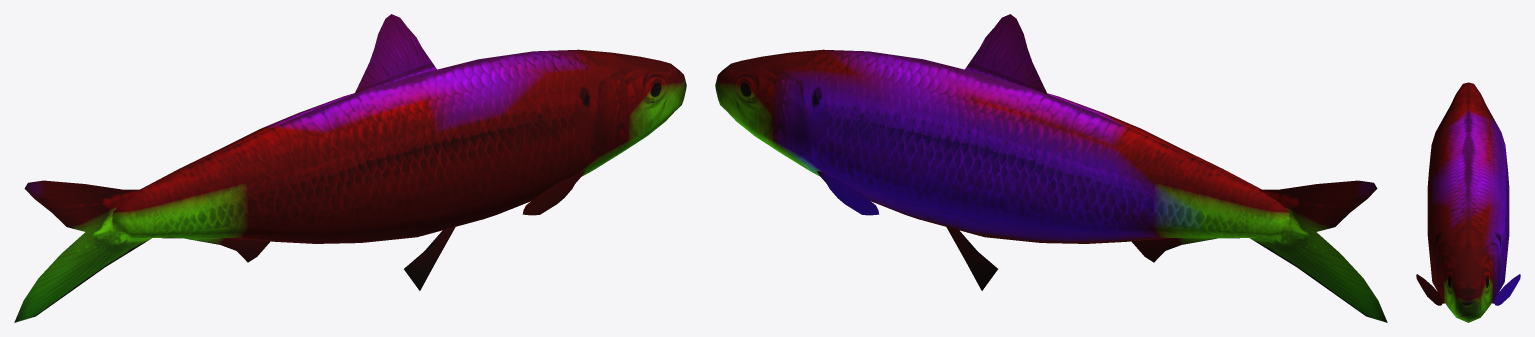
File: atlantic_herring.glb
3 renders of one model, left to right at view 1: azimuth 30°, elevation 25°; view 2: azimuth 150°, elevation 25°; view 3: azimuth 270°, elevation 25°, orthographic. The views are drawn at different scales.
Visible parts, largest first — view 1: AtlanticHerring; view 2: AtlanticHerring; view 3: AtlanticHerring.
Part boxes in pixels (bbox=[...]): AtlanticHerring: bbox=[14, 14, 686, 322]; AtlanticHerring: bbox=[715, 14, 1387, 322]; AtlanticHerring: bbox=[1416, 82, 1520, 322].
Size of the model in its own units: 1 by 0.3842 by 0.1749.
Materials: 1 (1 with a texture image).
